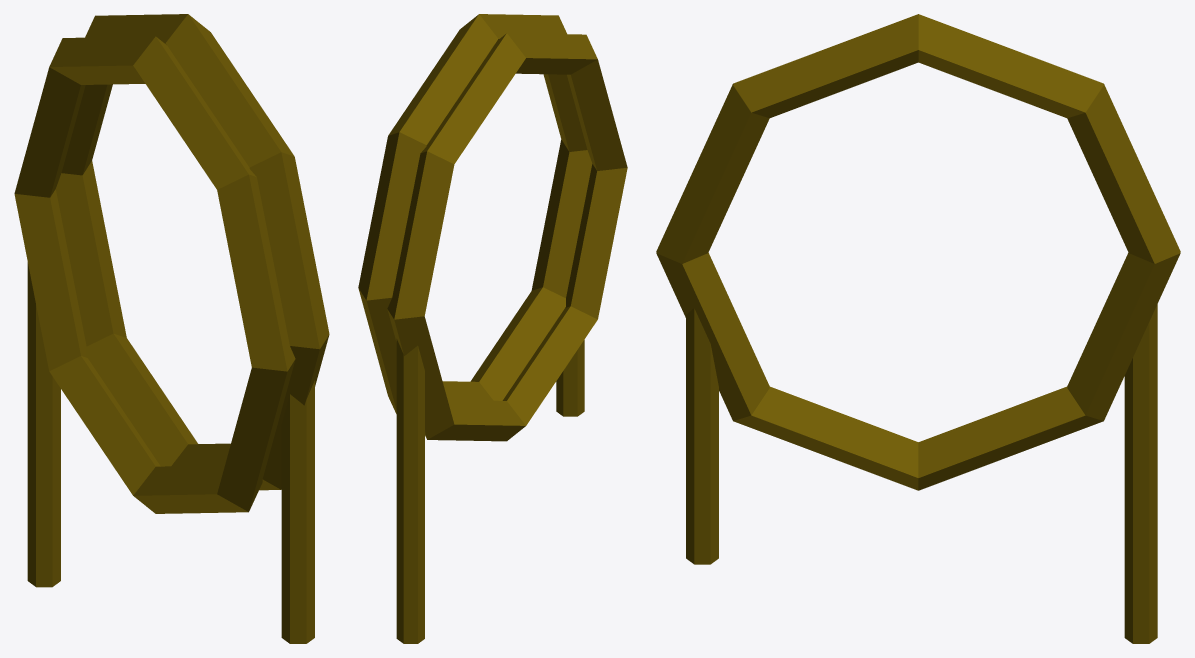
Rendered from Rope.fbx.
The picture shows the model from 3 angles, left to right: view 1: azimuth 30°, elevation 25°; view 2: azimuth 150°, elevation 25°; view 3: azimuth 270°, elevation 25°; orthographic projection. The views are drawn at different scales.
Parts seen in each view (by area): view 1: Rope; view 2: Rope; view 3: Rope.
Boxes of the visible parts, x1,y1,x2,y2 form: Rope: (14, 14, 329, 643); Rope: (358, 14, 627, 643); Rope: (656, 14, 1180, 643).
Size of the model in its own units: 30.78 by 243 by 181.
